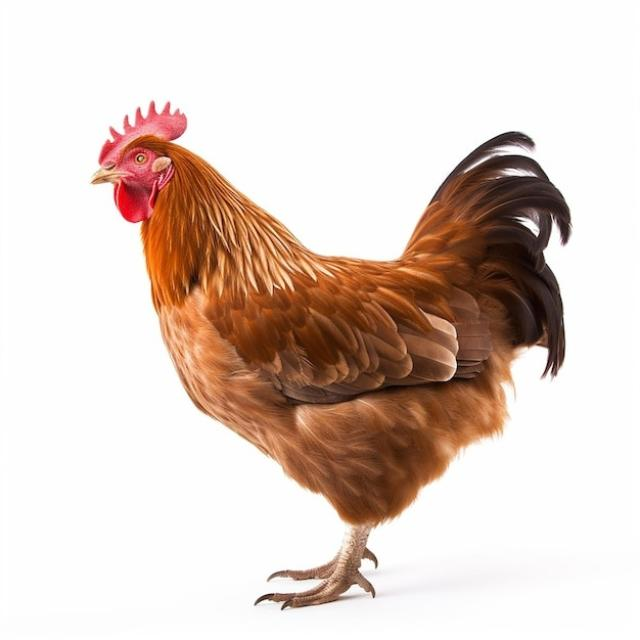Chicken: (89, 101, 571, 610)
